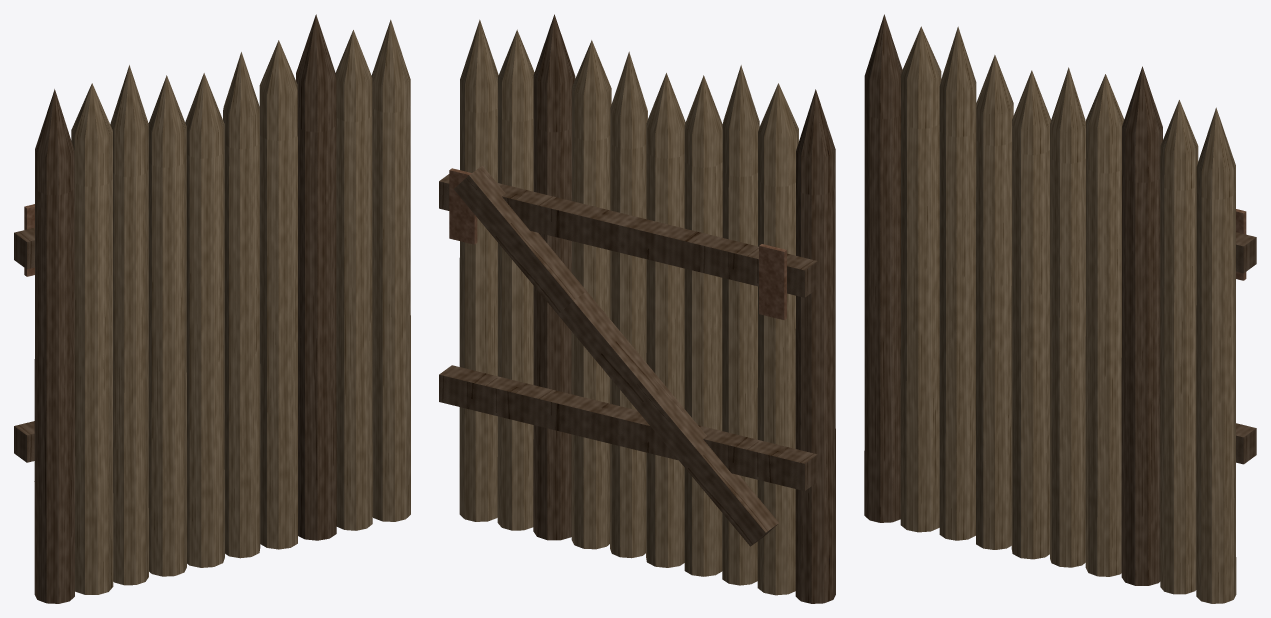
The model's file is PZ_Palisade_Straight_2m.glb.
3 views of the same model, side by side, from view 1: azimuth 30°, elevation 25°; view 2: azimuth 150°, elevation 25°; view 3: azimuth 330°, elevation 25° (orthographic).
Visible parts, largest first — view 1: STANDARD__FENCE_Log_01, STANDARD__FENCE_Log_08, STANDARD__FENCE_Log_02, STANDARD__FENCE_Log_07, STANDARD__FENCE_Log_04, STANDARD__FENCE_Log_10, STANDARD__FENCE_Log_05, STANDARD__FENCE_Log_03, STANDARD__FENCE_Log_09, STANDARD__FENCE_Log_06, STANDARD__FENCE_Rear_CrossRail_1, STANDARD__FENCE_Rear_CrossRail_2; view 2: STANDARD__FENCE_Log_01, STANDARD__FENCE_Rear_DiagonalBrace, STANDARD__FENCE_Log_02, STANDARD__FENCE_Log_04, STANDARD__FENCE_Log_10, STANDARD__FENCE_Log_08, STANDARD__FENCE_Log_05, STANDARD__FENCE_Log_07, STANDARD__FENCE_Log_09, STANDARD__FENCE_Rear_CrossRail_1, STANDARD__FENCE_Log_03, STANDARD__FENCE_Log_06 (+3 smaller); view 3: STANDARD__FENCE_Log_08, STANDARD__FENCE_Log_02, STANDARD__FENCE_Log_10, STANDARD__FENCE_Log_03, STANDARD__FENCE_Log_05, STANDARD__FENCE_Log_01, STANDARD__FENCE_Log_07, STANDARD__FENCE_Log_09, STANDARD__FENCE_Log_04, STANDARD__FENCE_Log_06, STANDARD__FENCE_Rear_CrossRail_1, STANDARD__FENCE_Rear_CrossRail_2.
Part boxes in pixels (box(x1,y1,x2,y2)): STANDARD__FENCE_Log_01: box(34, 89, 74, 603); STANDARD__FENCE_Log_08: box(296, 14, 336, 540); STANDARD__FENCE_Log_02: box(71, 83, 113, 594); STANDARD__FENCE_Log_07: box(259, 40, 297, 549); STANDARD__FENCE_Log_04: box(148, 75, 186, 576); STANDARD__FENCE_Log_10: box(371, 19, 410, 521); STANDARD__FENCE_Log_05: box(185, 73, 224, 567); STANDARD__FENCE_Log_03: box(110, 65, 148, 585); STANDARD__FENCE_Log_09: box(335, 30, 372, 530); STANDARD__FENCE_Log_06: box(223, 52, 260, 558); STANDARD__FENCE_Rear_CrossRail_1: box(14, 421, 34, 462); STANDARD__FENCE_Rear_CrossRail_2: box(14, 227, 34, 269); STANDARD__FENCE_Log_01: box(795, 89, 835, 603); STANDARD__FENCE_Rear_DiagonalBrace: box(454, 165, 778, 546); STANDARD__FENCE_Log_02: box(757, 83, 798, 595); STANDARD__FENCE_Log_04: box(684, 75, 722, 576); STANDARD__FENCE_Log_10: box(459, 19, 498, 521); STANDARD__FENCE_Log_08: box(533, 14, 575, 540); STANDARD__FENCE_Log_05: box(646, 73, 685, 567); STANDARD__FENCE_Log_07: box(571, 40, 611, 549); STANDARD__FENCE_Log_09: box(497, 29, 534, 530); STANDARD__FENCE_Rear_CrossRail_1: box(439, 365, 817, 490); STANDARD__FENCE_Log_03: box(722, 65, 759, 585); STANDARD__FENCE_Log_06: box(610, 51, 647, 558); STANDARD__FENCE_Log_08: box(1121, 66, 1162, 585); STANDARD__FENCE_Log_02: box(900, 26, 941, 532); STANDARD__FENCE_Log_10: box(1196, 107, 1236, 603); STANDARD__FENCE_Log_03: box(939, 26, 976, 540); STANDARD__FENCE_Log_05: box(1011, 70, 1050, 559); STANDARD__FENCE_Log_01: box(864, 14, 902, 522); STANDARD__FENCE_Log_07: box(1085, 74, 1124, 576); STANDARD__FENCE_Log_09: box(1160, 100, 1198, 594); STANDARD__FENCE_Log_04: box(976, 55, 1013, 549); STANDARD__FENCE_Log_06: box(1050, 67, 1085, 567); STANDARD__FENCE_Rear_CrossRail_1: box(1236, 423, 1256, 464); STANDARD__FENCE_Rear_CrossRail_2: box(1236, 232, 1256, 273).
Bounding box in the file's own units: 1.99 × 2.65 × 0.4253.
3 materials, 3 textured.
